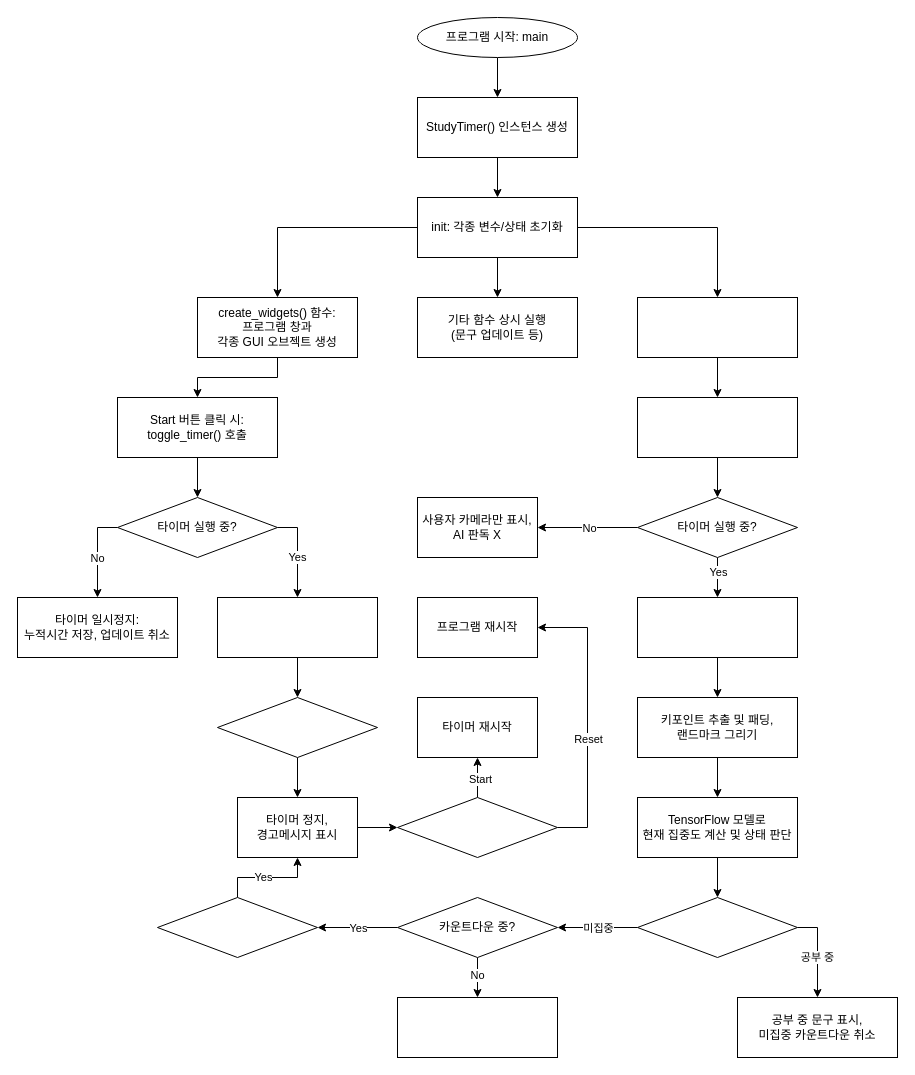
The diagram is 915 pixels wide and 1075 high, and some of its shapes have lost their labels. Here are the shapes that lost their labels. From the top down, the centre of each, then its label:
the point at 717,327: update_ai_frame() 함수: 상시 AI 판독
the point at 717,427: OpenCV로 카메라 프레임 읽고 프로그램에 표시
the point at 297,627: 타이머 실행: 상태/버튼 UI 갱신, 타이머 업데이트 시작
the point at 717,627: MediaPipe로 자세 데이터 추출
the point at 297,727: Stop 버튼 클릭?
the point at 477,827: 일시정지 상태의 버튼클릭?
the point at 237,927: 30초 카운트다운 완료?
the point at 717,927: 모델 분류 결과?
the point at 477,1027: 30초 미집중 카운트다운 시작
